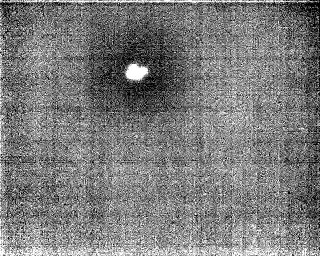AIRPLANE: (122, 59, 150, 84)
